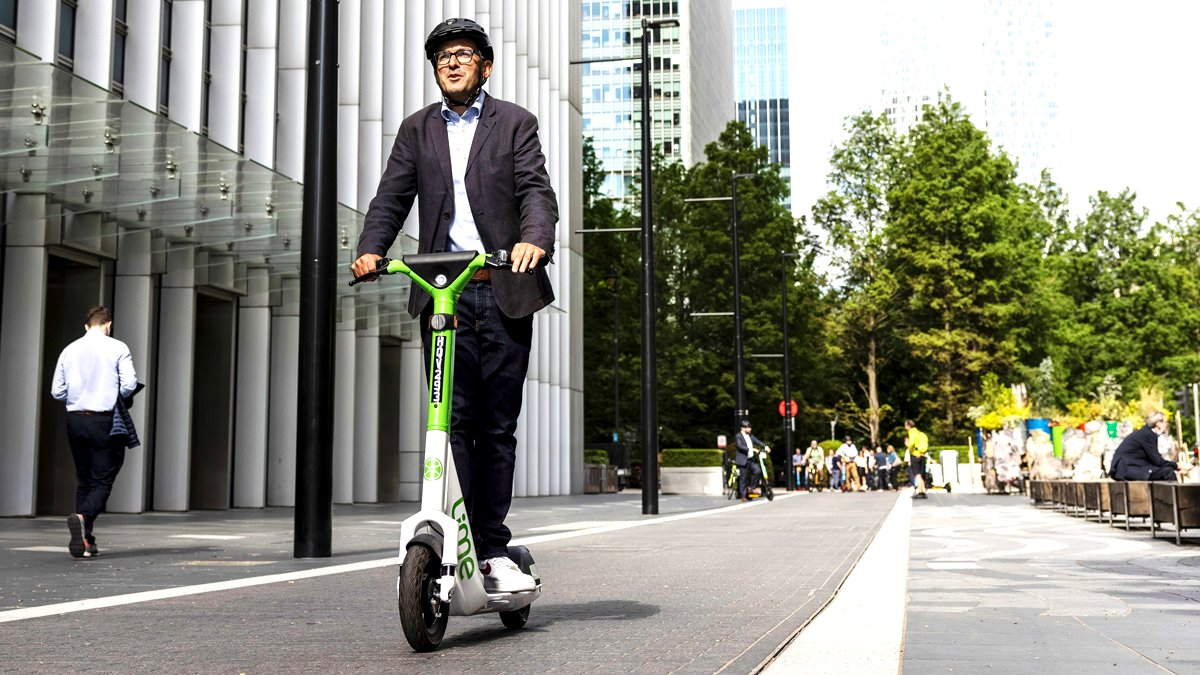scooter: (347, 250, 551, 659)
with helmet: (421, 20, 497, 103)
